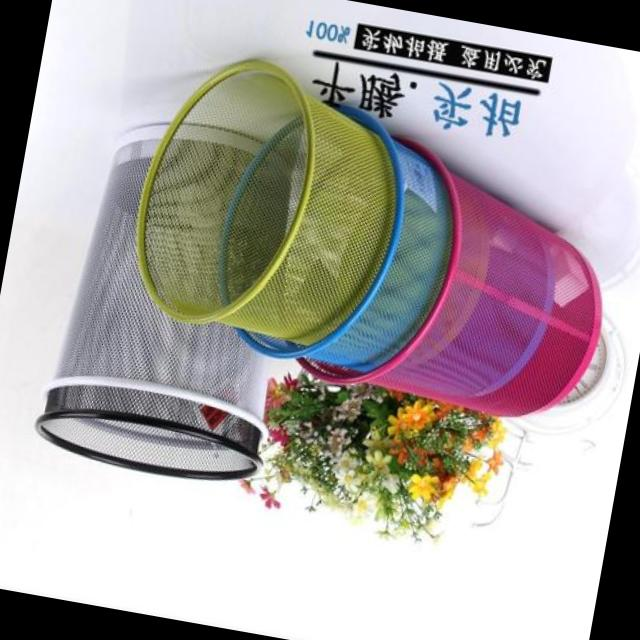dustbin: (291, 120, 630, 436), (33, 101, 324, 445), (115, 38, 412, 360)
